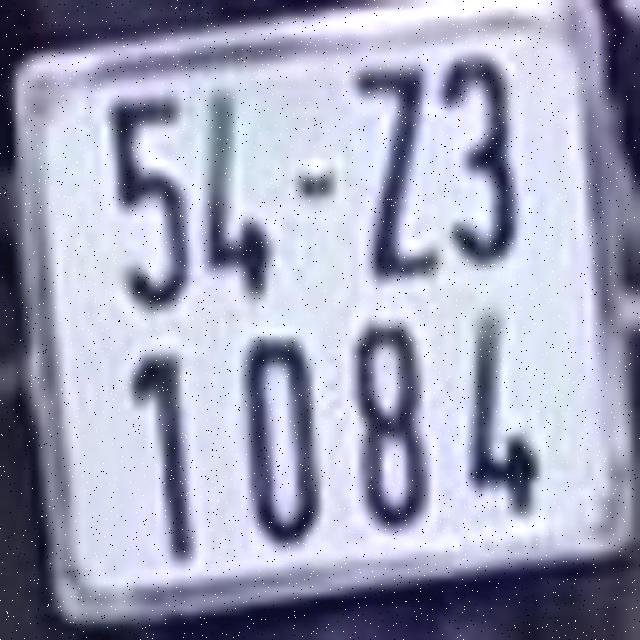0: (242, 332, 321, 546)
1: (127, 350, 203, 563)
3: (444, 52, 519, 268)
4: (465, 307, 545, 520), (203, 86, 274, 302)
5: (106, 94, 192, 310)
8: (354, 320, 430, 531)
Z: (354, 60, 442, 279)
